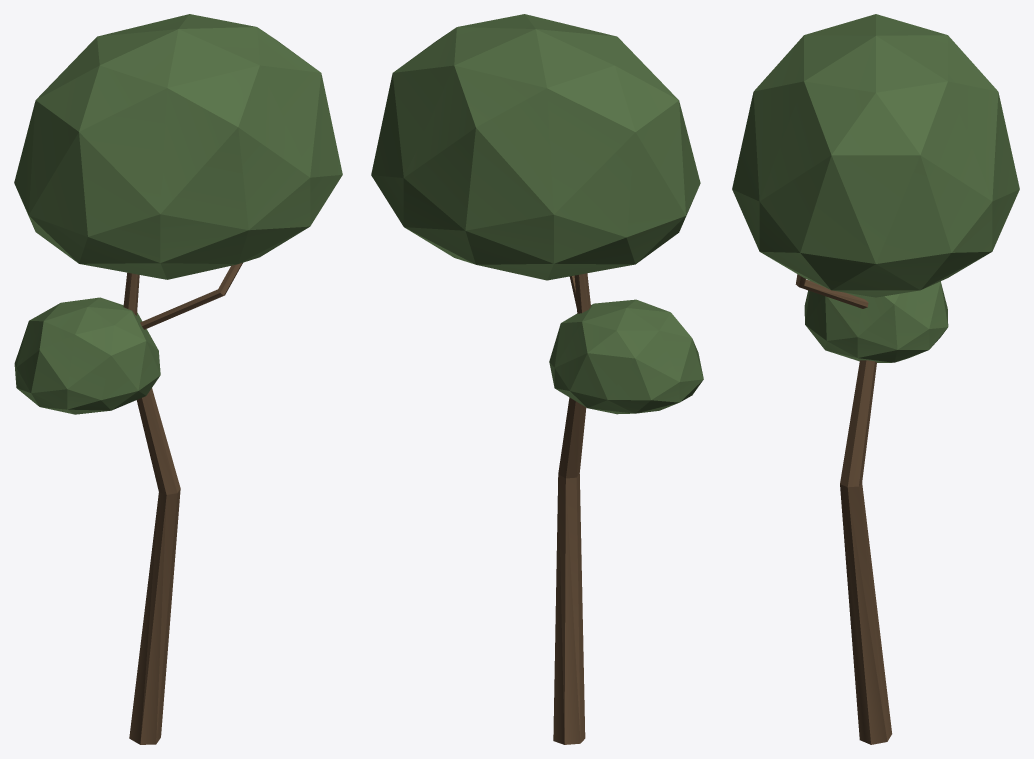
File: tree_green_4.glb
3 views of the same model, side by side, from view 1: azimuth 30°, elevation 25°; view 2: azimuth 150°, elevation 25°; view 3: azimuth 270°, elevation 25° (orthographic). The views are drawn at different scales.
Visible parts, largest first — view 1: Tree Green 4; view 2: Tree Green 4; view 3: Tree Green 4.
Part boxes in pixels (<box>): Tree Green 4: <box>14,14,342,744</box>; Tree Green 4: <box>371,14,703,744</box>; Tree Green 4: <box>732,14,1019,744</box>.
Size of the model in its own units: 0.172 by 0.3755 by 0.1362.
